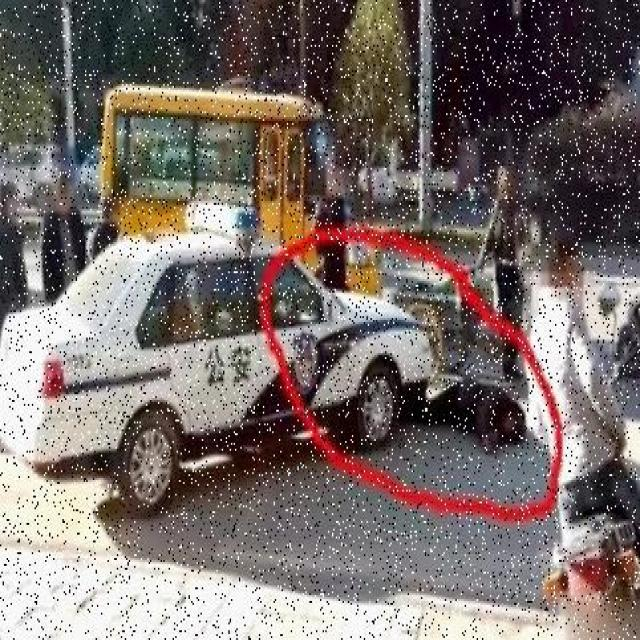fall: (422, 370, 528, 454)
